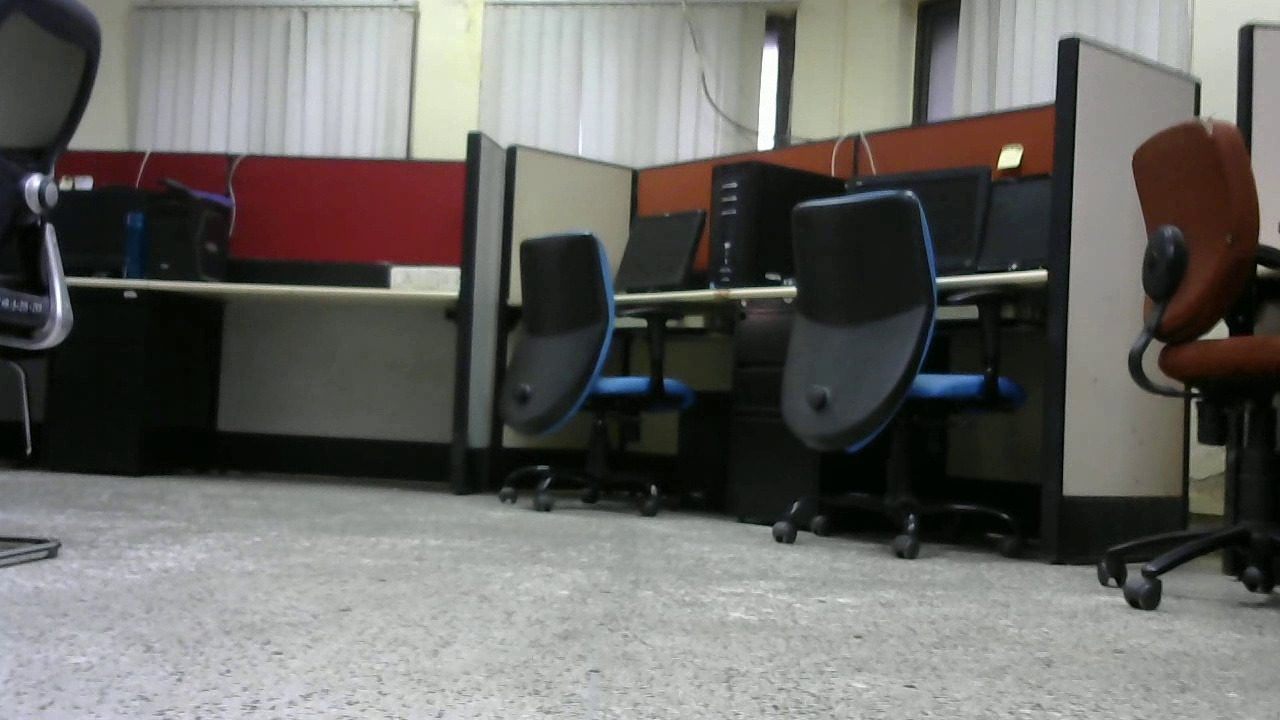chair: (758, 188, 1014, 557), (1108, 112, 1280, 609), (493, 233, 696, 517)
